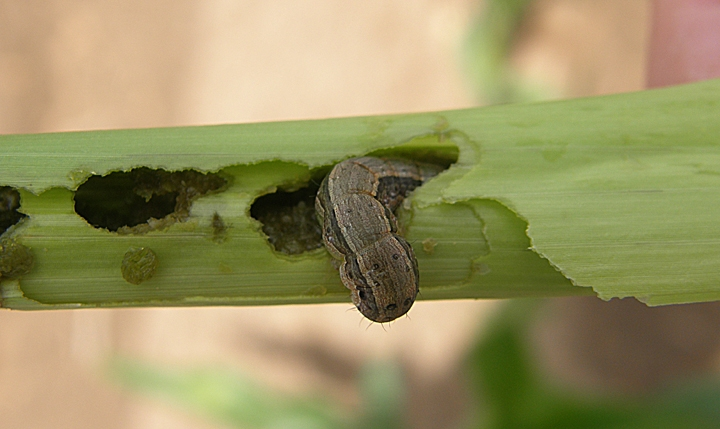Armyworm: (339, 145, 430, 340)
